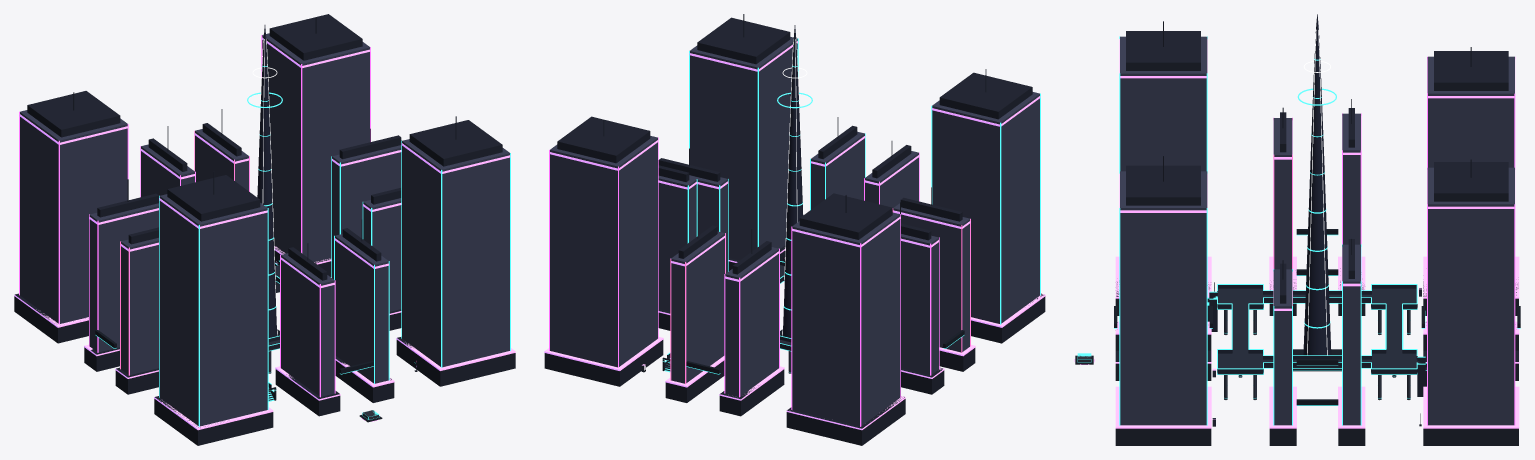
The picture shows the model from 3 angles, left to right: view 1: azimuth 30°, elevation 25°; view 2: azimuth 150°, elevation 25°; view 3: azimuth 270°, elevation 25°; orthographic projection. The views are drawn at different scales.
Parts seen in each view (by area): view 1: district_city_cero.lod1; view 2: district_city_cero.lod1; view 3: district_city_cero.lod1.
Part boxes in pixels (x1,y1,x2,y2): district_city_cero.lod1: (14,14,515,445); district_city_cero.lod1: (544,14,1045,445); district_city_cero.lod1: (1074,14,1520,445).
Size of the model in its own units: 97.85 by 92.01 by 107.
